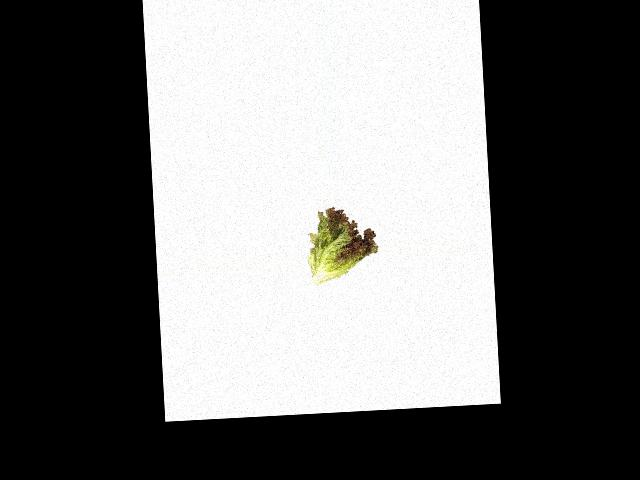lettuce: (306, 204, 378, 284)
